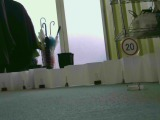speed_20: (121, 38, 139, 56)
